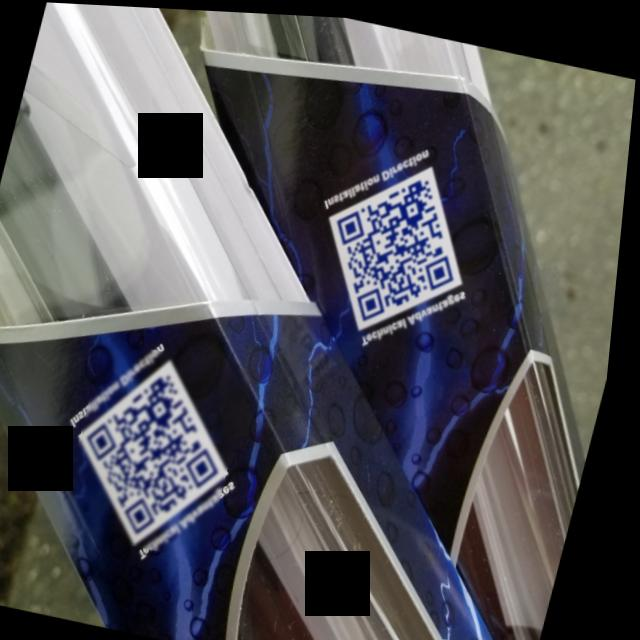QR_CODE: (64, 336, 262, 560), (303, 130, 498, 352)
